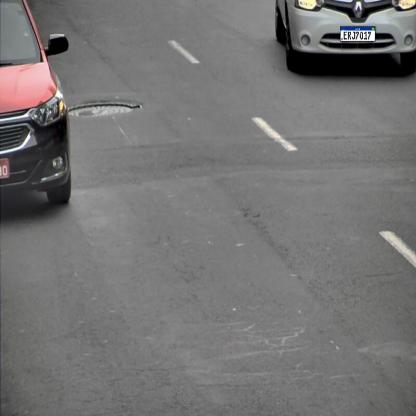PlacaM: (340, 26, 376, 42)
